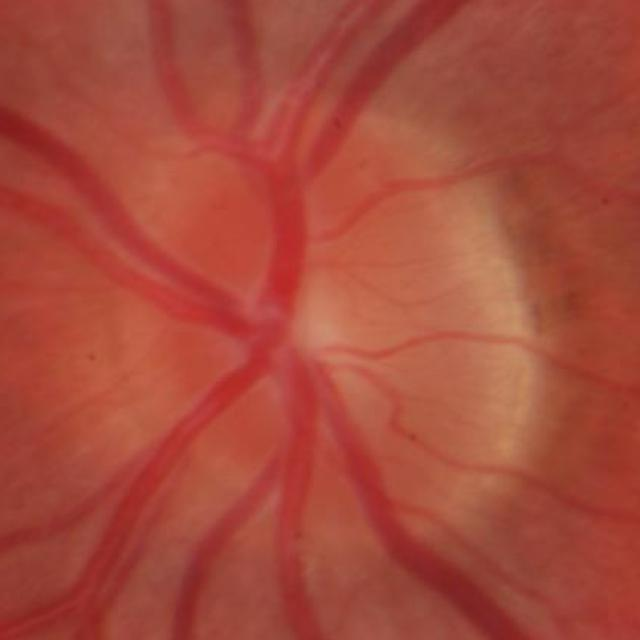OC: (232, 258, 376, 424)
OD: (95, 113, 534, 549)
